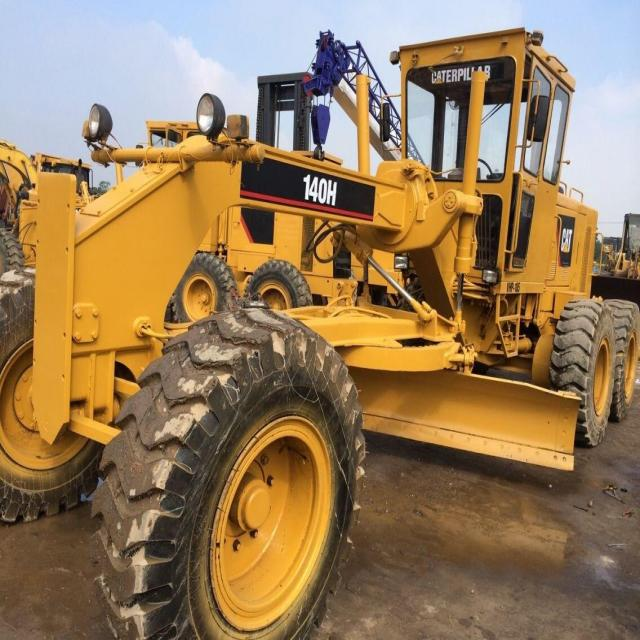Grader: (18, 17, 636, 639)
